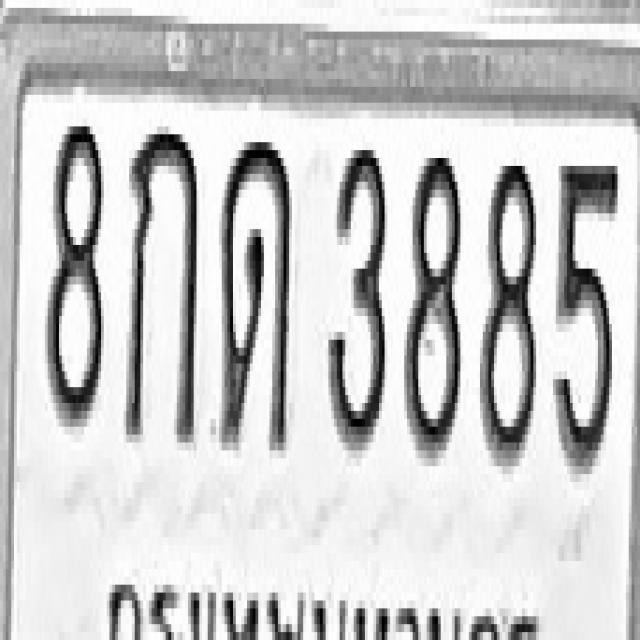10GorGai: (124, 119, 196, 442)
29DorDek: (220, 134, 290, 442)
3: (327, 142, 386, 450)
5: (553, 158, 618, 474)
8: (45, 118, 104, 426), (404, 150, 460, 458), (480, 158, 536, 466)
